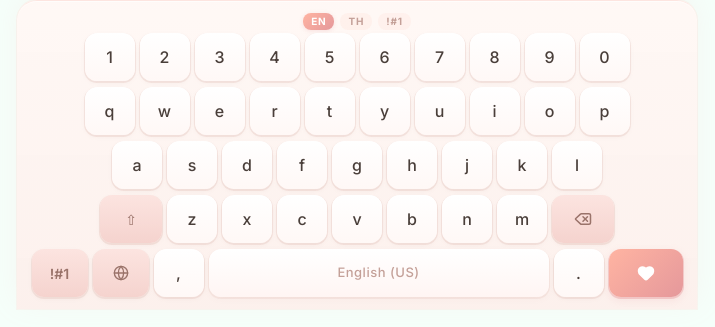
VirtualKeyboard › English Symbol Page 2/2 › shows brackets and special chars (` ~ \ | < > { } [ ])
Click the button "!#1": [60, 273] box [32,249,88,297]
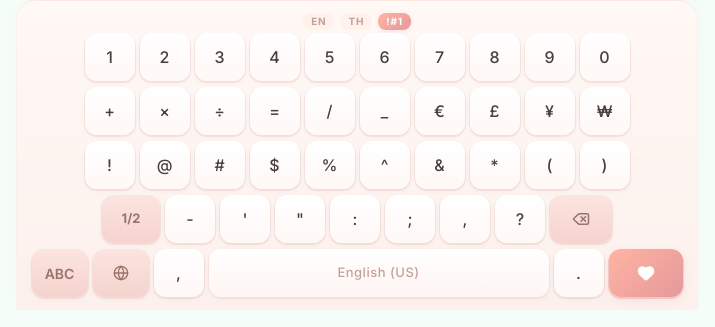
Click the button "1/2": [131, 219] box [102,195,160,243]
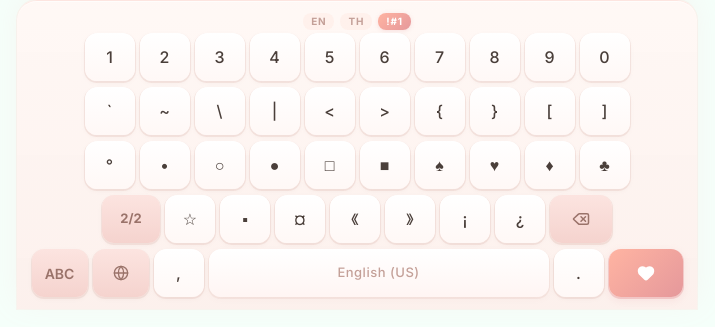
Expected: the button "{" is shown, [414,87,464,135]
Expected: the button "}" is shown, [470,87,520,135]
Expected: the button "[" is shown, [524,87,574,135]
